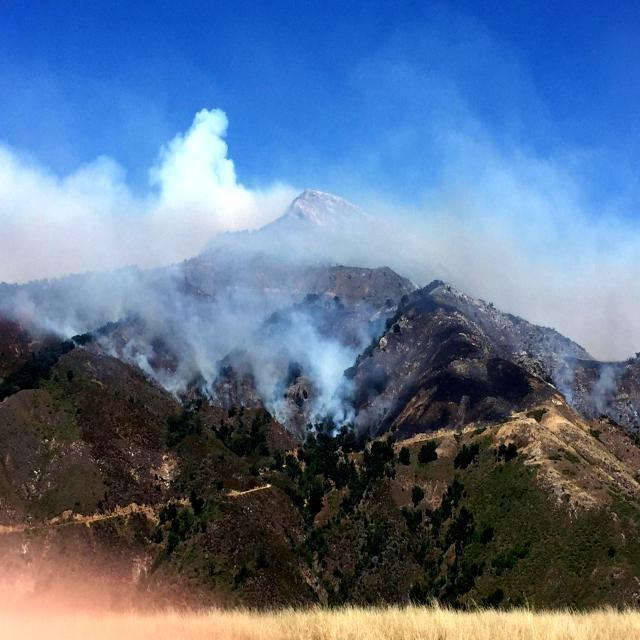Smoke: (110, 211, 391, 431), (545, 331, 618, 419)
